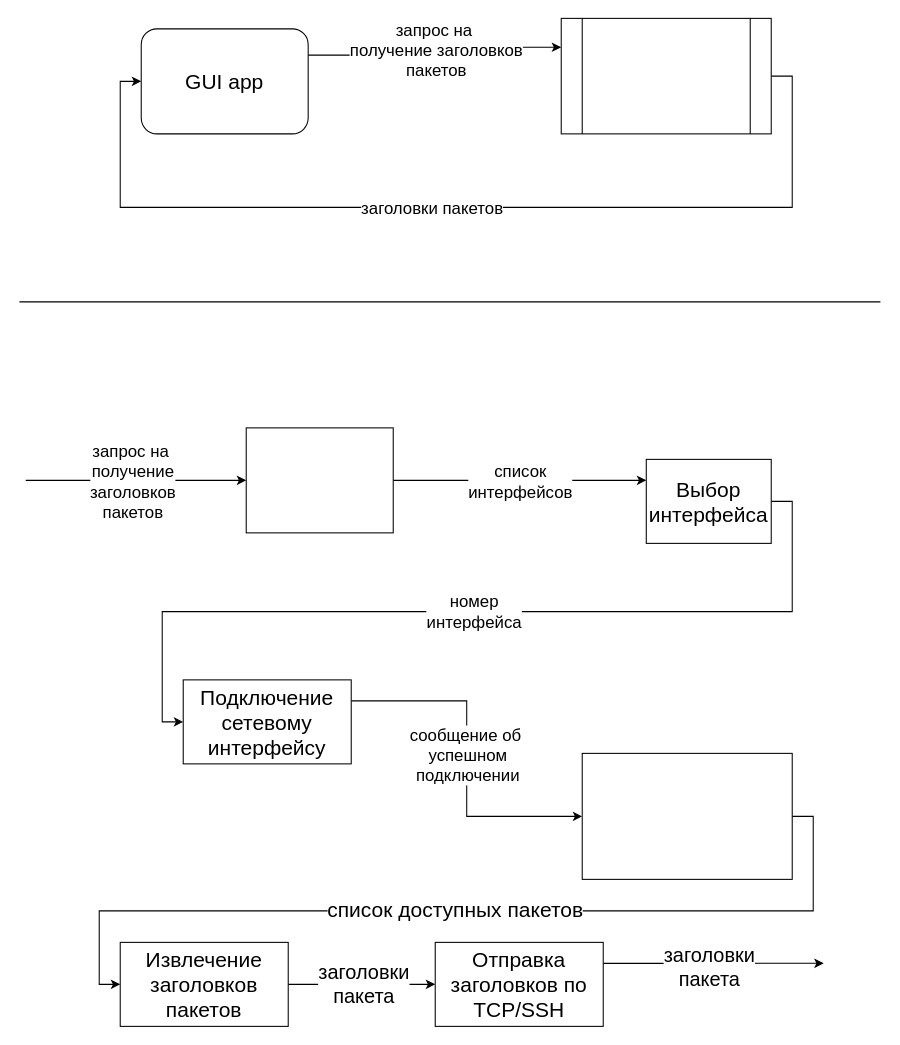
Image size: 900x1045. Some labels were removed from this diagram. The centre of each missing label's shape, as x and y in pixels:
snuffer(сбор и отображение пакетов интерфейса): [665,75]
Ожидание пакетов: [686,815]
получение списка всех интерфейсов: [319,480]
